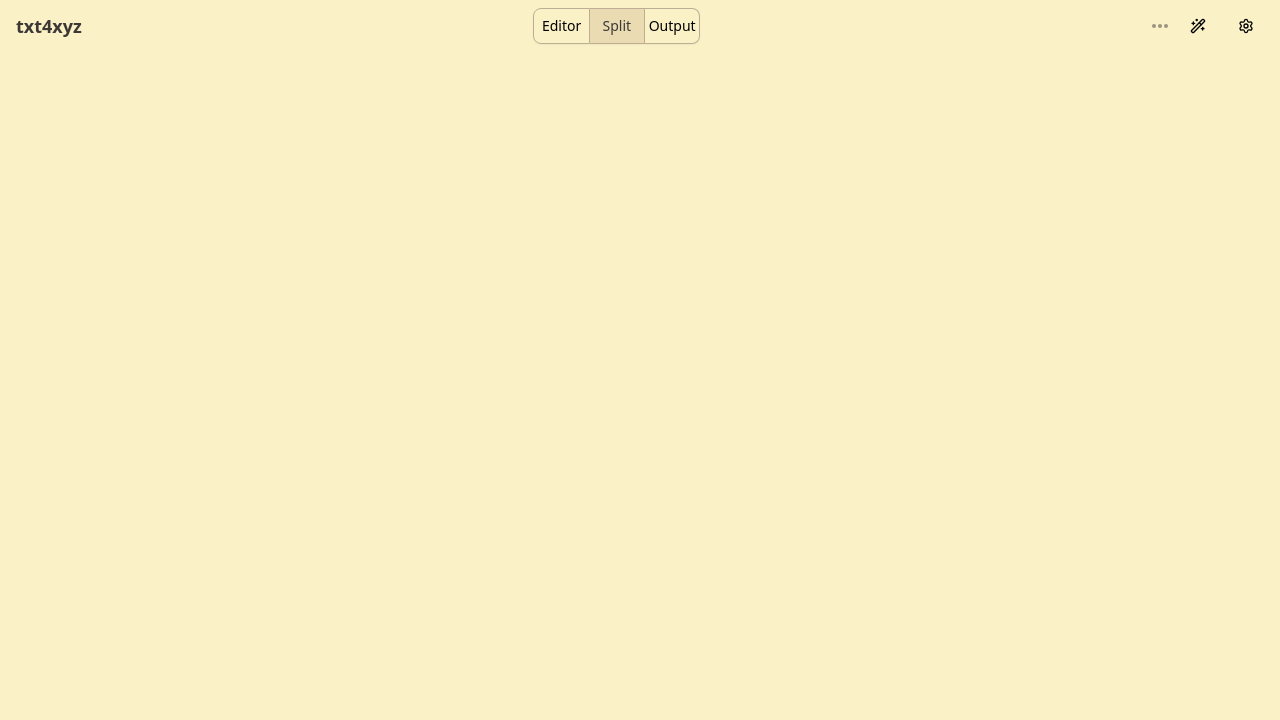
Test case: AppHeader › opens the settings modal, which shows shortcuts and a theme switcher
The width and height of the screenshot is (1280, 720).
Expected: the dialog "Settings" is not shown
Click the button named "open settings" at (1246, 26), box [1228,8,1264,44]
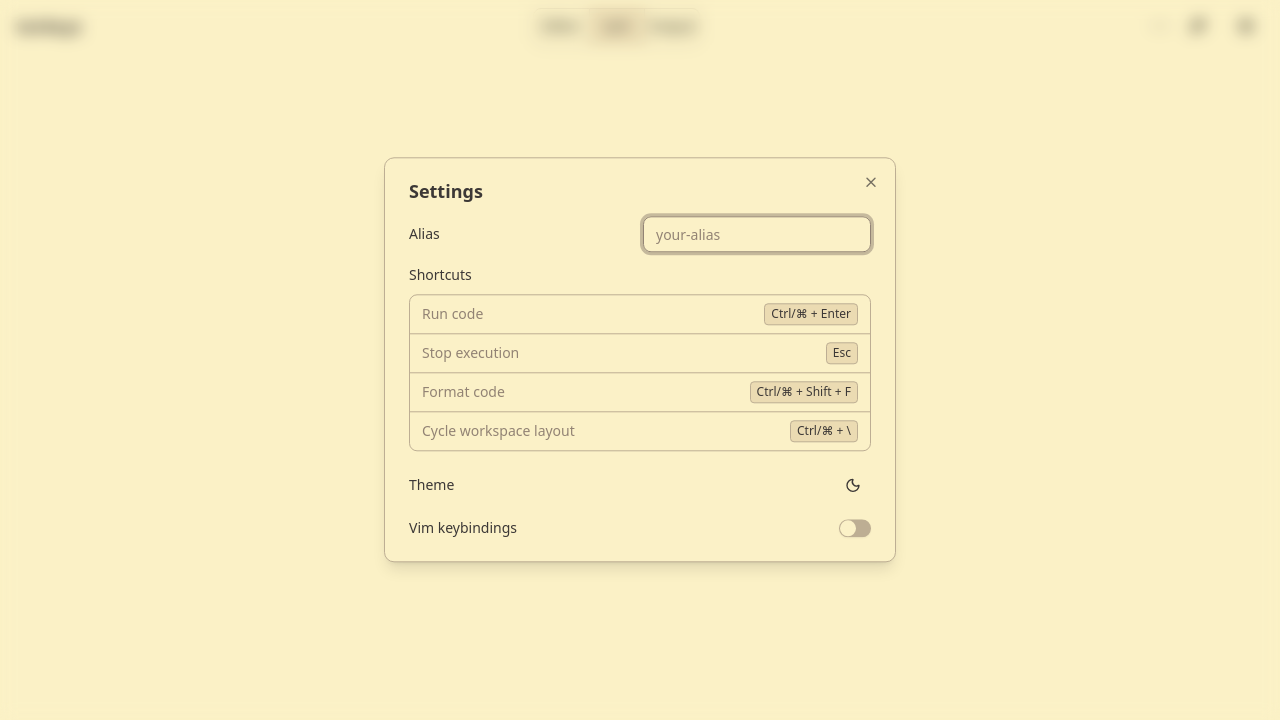
Now the dialog "Settings" is shown, box [384,157,896,563]
Now the text "Run code" is shown, box [422,304,483,324]
Now the button named "switch to dark mode" is shown, box [835,467,871,503]
